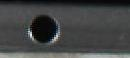holes: (28, 13, 61, 45)
